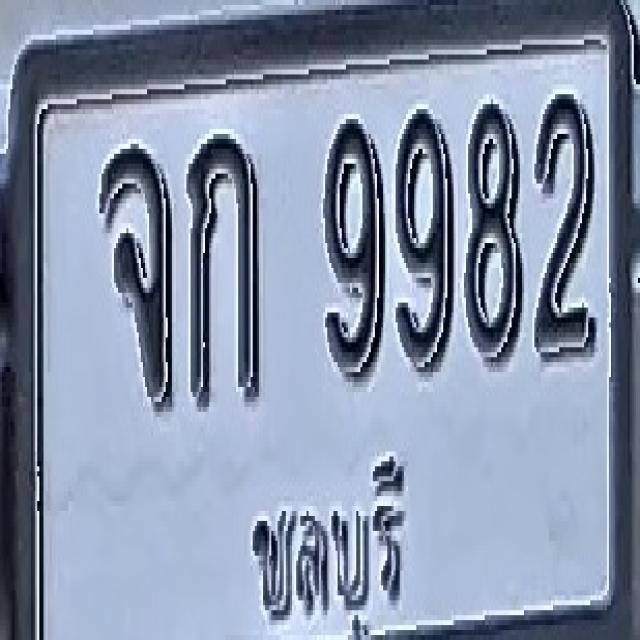2: (534, 90, 596, 358)
8: (465, 99, 523, 362)
9: (324, 116, 384, 380), (396, 104, 454, 372)
A01: (186, 132, 261, 404)
A08: (100, 146, 173, 410)
CBI: (246, 448, 408, 640)
